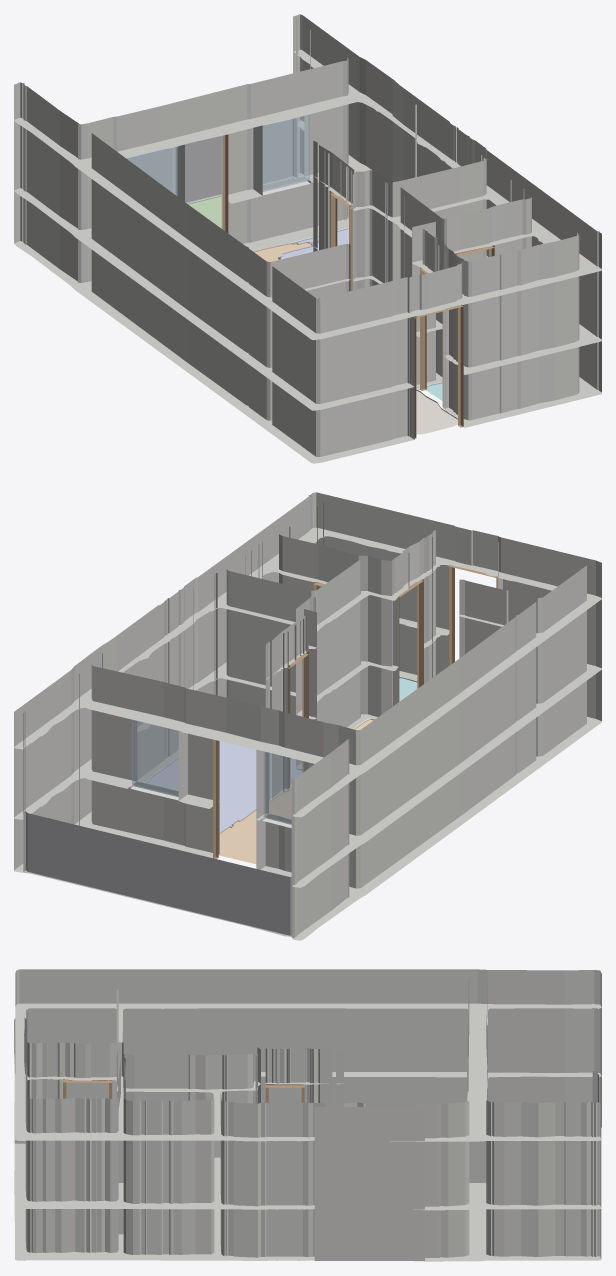
The picture shows the model from 3 angles, top to bottom: view 1: azimuth 30°, elevation 25°; view 2: azimuth 150°, elevation 25°; view 3: azimuth 270°, elevation 25°; orthographic projection. The views are drawn at different scales.
Visible parts, largest first — view 1: walls, railings, window_6, window_5, door_4, floor_6_Entry, door_1, door_3, door_0, floor_0_Outdoor; view 2: walls, railings, floor_3_Bed_Room, window_6, window_5, floor_2_Living_Room, door_3, door_1, door_4, door_0; view 3: walls.
Boxes of the visible parts, x1=… form: walls: x1=14, y1=14, x2=601, y2=463; railings: x1=127, y1=118, x2=296, y2=203; window_6: x1=258, y1=114, x2=309, y2=192; window_5: x1=126, y1=142, x2=177, y2=196; door_4: x1=414, y1=304, x2=463, y2=438; floor_6_Entry: x1=416, y1=389, x2=457, y2=434; door_1: x1=330, y1=191, x2=352, y2=290; door_3: x1=420, y1=267, x2=443, y2=407; door_0: x1=222, y1=134, x2=228, y2=232; floor_0_Outdoor: x1=187, y1=178, x2=293, y2=228; walls: x1=14, y1=492, x2=601, y2=940; railings: x1=23, y1=811, x2=291, y2=936; floor_3_Bed_Room: x1=145, y1=741, x2=301, y2=832; window_6: x1=132, y1=719, x2=183, y2=796; window_5: x1=263, y1=751, x2=313, y2=824; floor_2_Living_Room: x1=219, y1=789, x2=291, y2=864; door_3: x1=399, y1=579, x2=423, y2=701; door_1: x1=288, y1=651, x2=308, y2=788; door_4: x1=449, y1=565, x2=497, y2=665; door_0: x1=213, y1=739, x2=218, y2=858; walls: x1=14, y1=969, x2=601, y2=1261.
Bounding box in the file's own units: 5.2 × 2.72 × 9.35.
